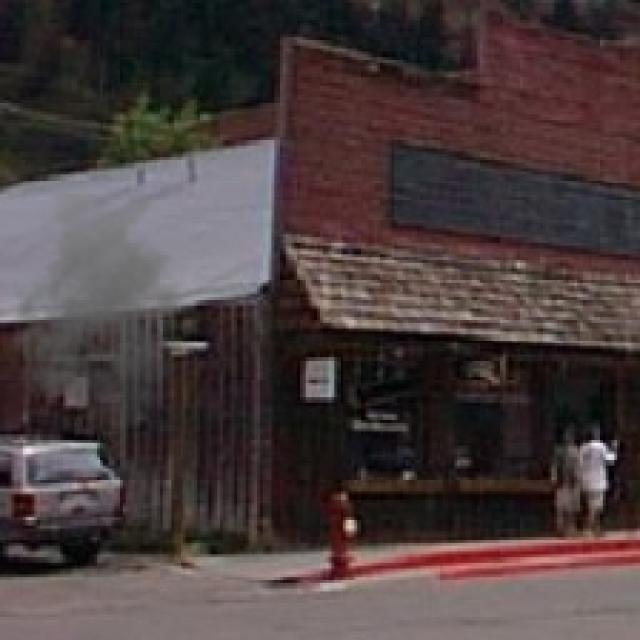smoke: (6, 194, 206, 434)
